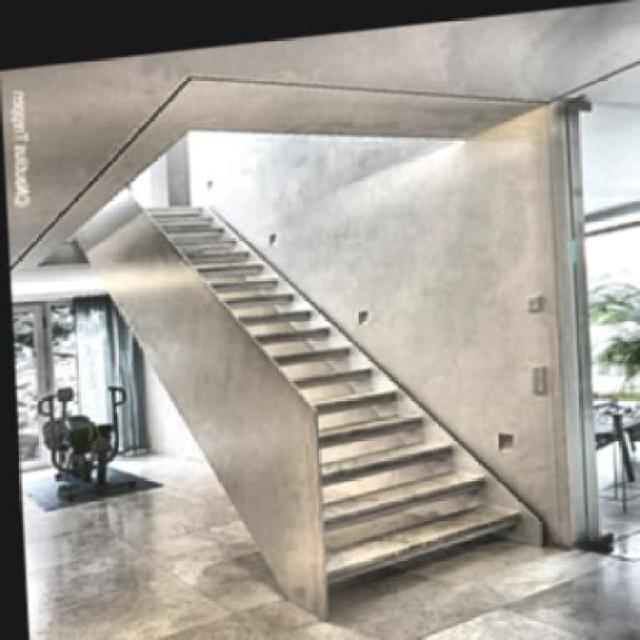stair: (206, 218, 554, 594)
